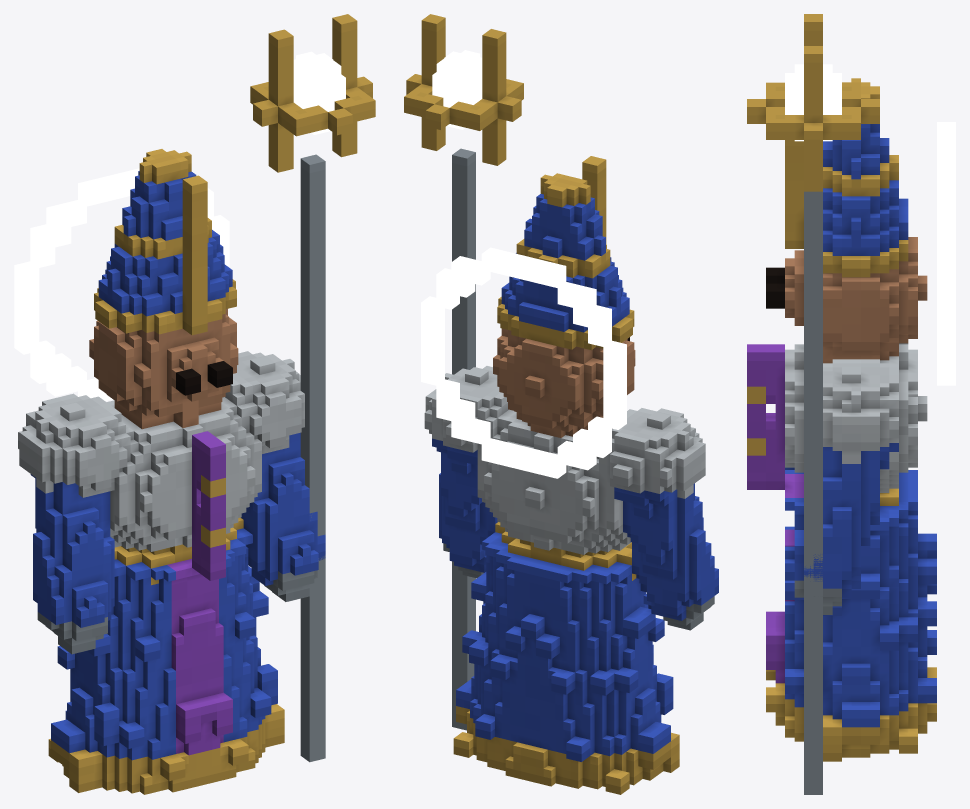
Rendered from u_oracle__garde.glb.
The picture shows the model from 3 angles, left to right: view 1: azimuth 30°, elevation 25°; view 2: azimuth 150°, elevation 25°; view 3: azimuth 270°, elevation 25°; orthographic projection. The views are drawn at different scales.
Visible parts, largest first — view 1: oracle_body, oracle_weapon, oracle_glow, oracle_weaponglow; view 2: oracle_body, oracle_glow, oracle_weapon, oracle_weaponglow; view 3: oracle_body, oracle_weapon, oracle_glow, oracle_weaponglow.
Part boxes in pixels (x1,y1,x2,y2): oracle_body: (18, 149, 325, 794); oracle_weapon: (250, 14, 375, 762); oracle_glow: (14, 168, 229, 401); oracle_weaponglow: (293, 51, 345, 134); oracle_body: (424, 156, 718, 794); oracle_glow: (421, 247, 626, 478); oracle_weapon: (404, 14, 523, 730); oracle_weaponglow: (432, 50, 482, 129); oracle_body: (747, 78, 936, 761); oracle_weapon: (747, 14, 879, 794); oracle_glow: (937, 122, 955, 385); oracle_weaponglow: (785, 64, 841, 141).
Size of the model in its own units: 1 by 2.2 by 0.55.
